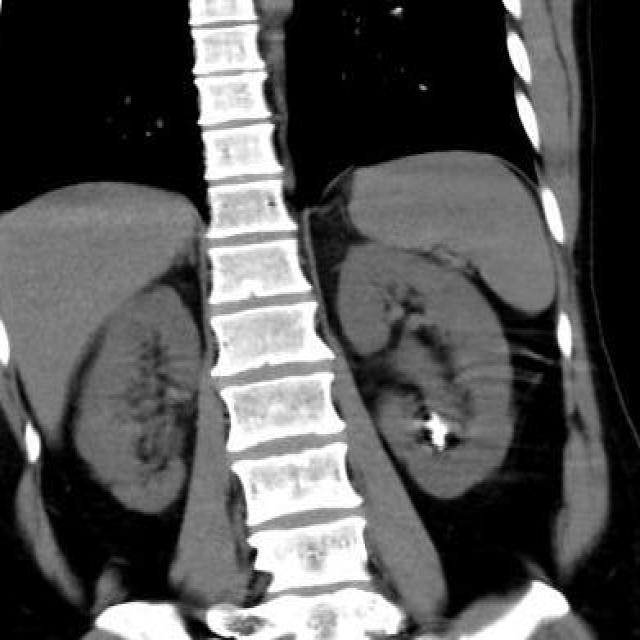Tas_Var: (423, 418, 454, 448), (437, 445, 449, 453), (431, 411, 438, 419)
